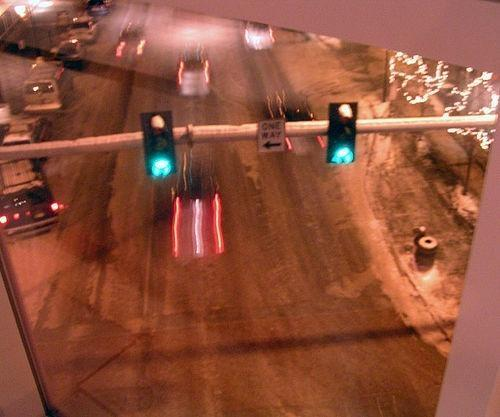car: (0, 158, 61, 244), (176, 42, 211, 100), (2, 114, 52, 143), (117, 25, 147, 56), (245, 22, 275, 50), (68, 15, 99, 42), (55, 40, 86, 62), (87, 0, 110, 16)
